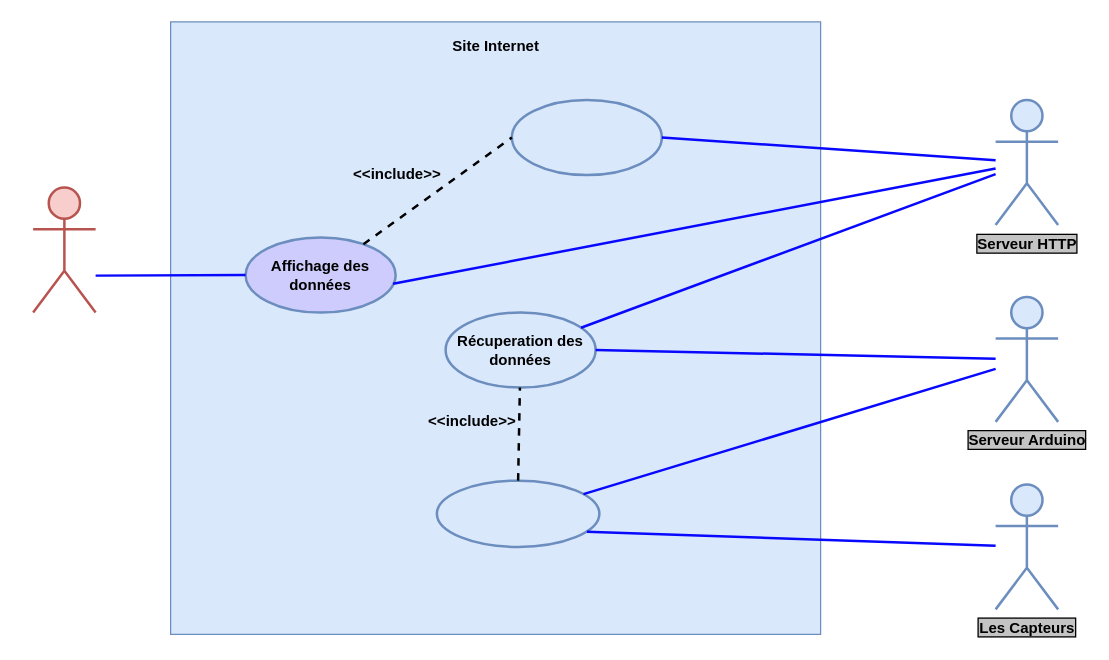
The diagram is 1109 pixels wide and 660 high, and some of its shapes have lost their labels. Each missing label, with the box of its shape:
Le manager: (31, 186, 96, 313)
Lire les données: (435, 479, 600, 548)
Se connecter: (510, 98, 662, 176)
